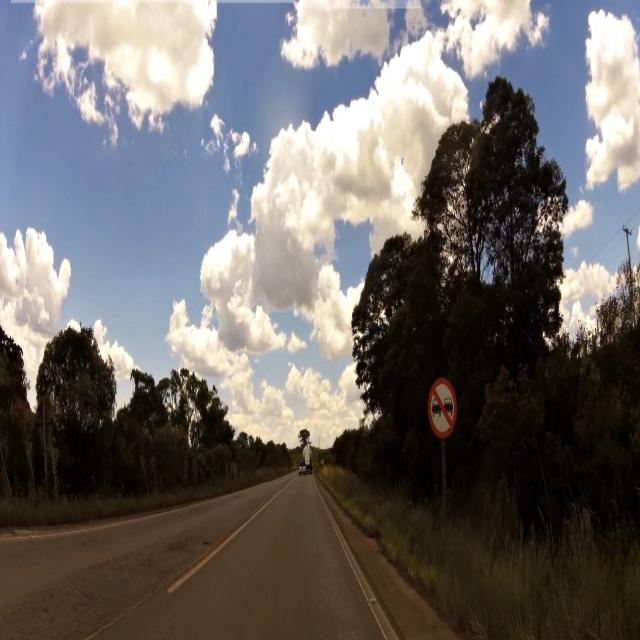R-7: (426, 376, 456, 445)
